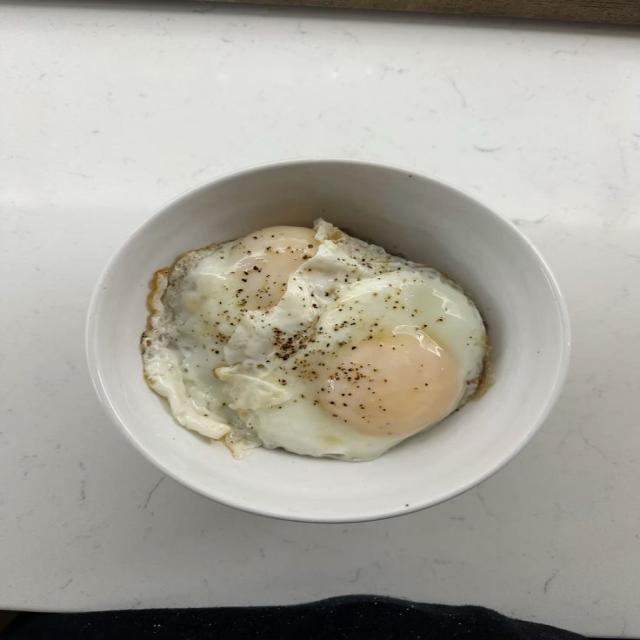fryed egg: (143, 221, 486, 460)
